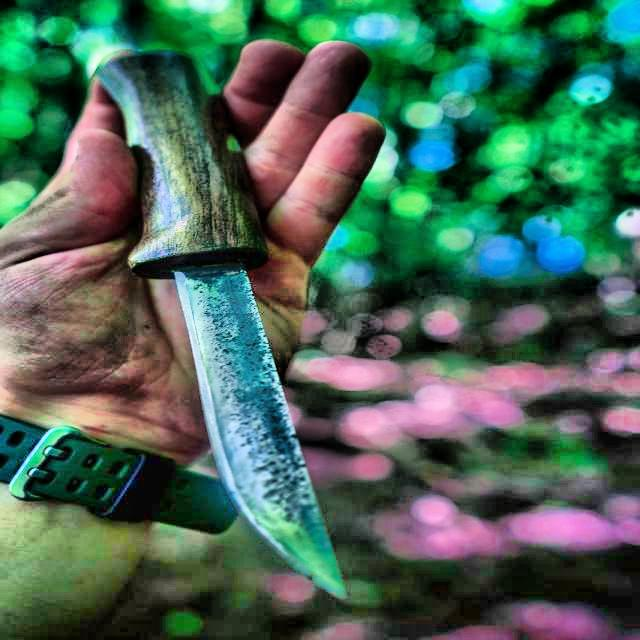knife: (90, 36, 355, 592)
